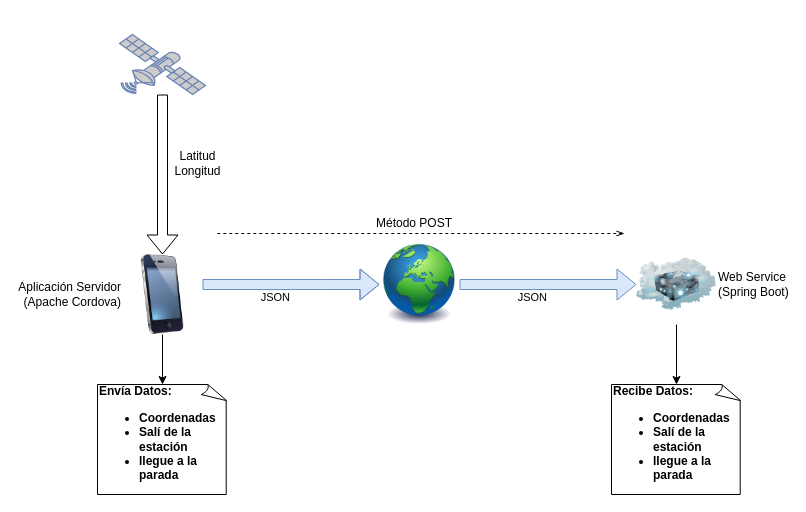
The diagram is 806 pixels wide and 512 high, and some of its shapes have lost their labels. Each missing label, with the centre of its shape:
"GPS" belongs at (162,64).
"Internet" belongs at (419,284).
